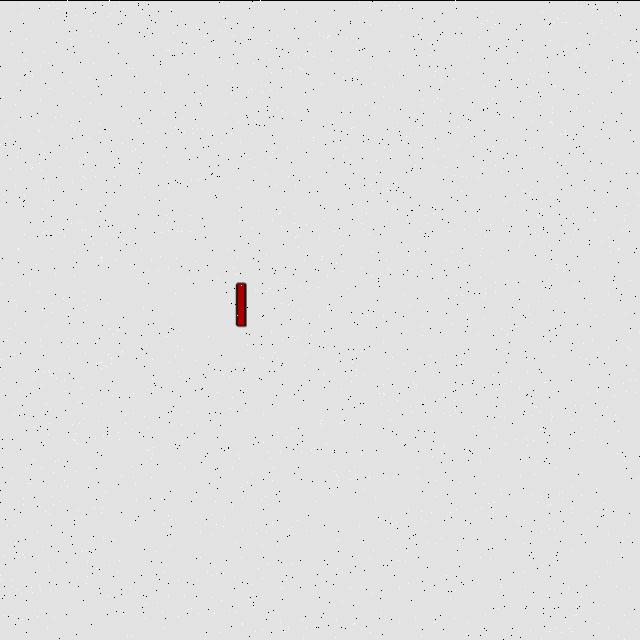3069b: (233, 277, 250, 329)
